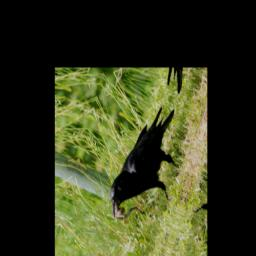Crow: (104, 93, 192, 239)
